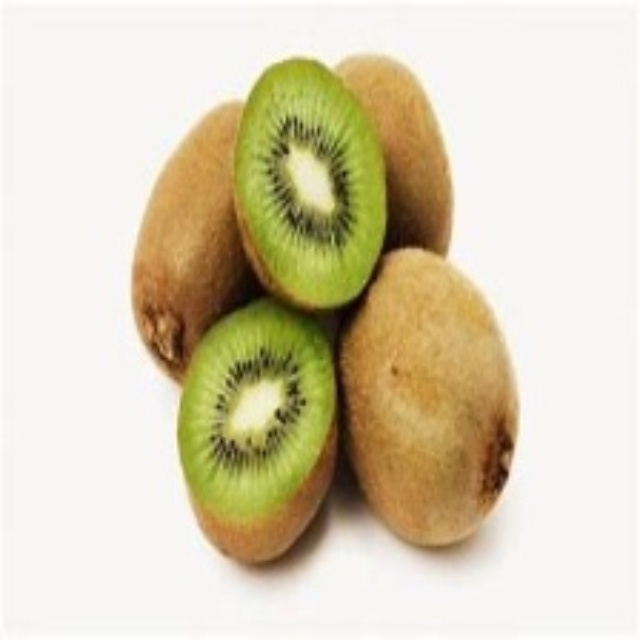kiwi: (338, 250, 521, 547), (173, 304, 349, 573), (118, 93, 265, 375), (239, 57, 381, 309), (343, 41, 464, 272)
